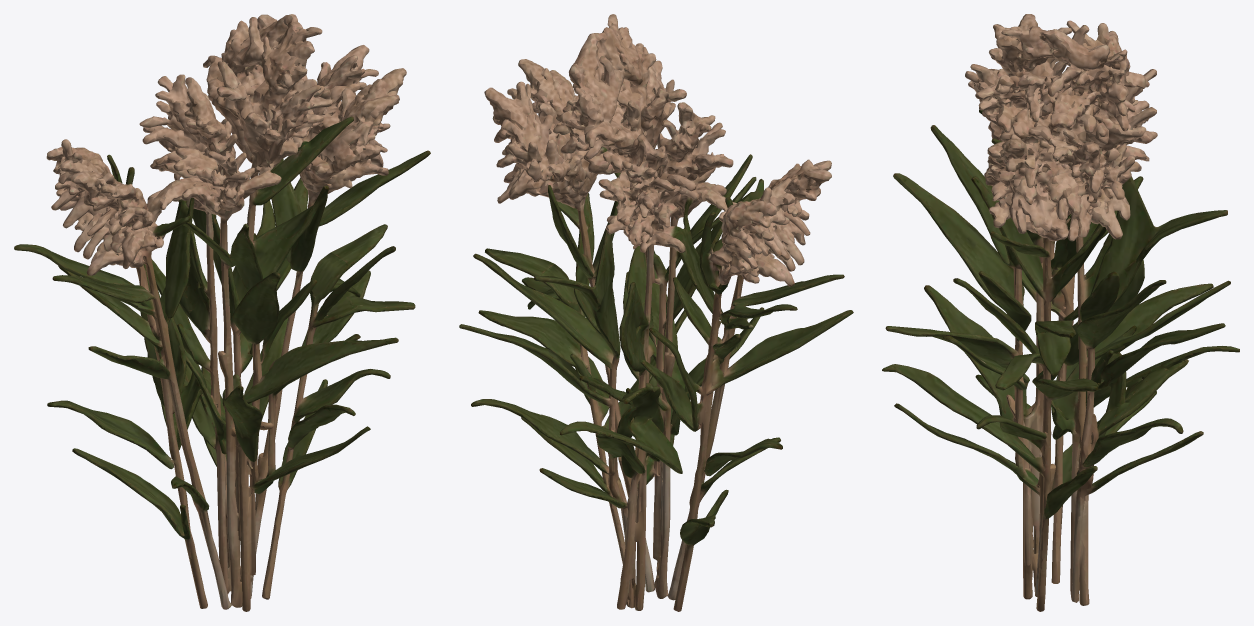
File: common-reed-cluster-v21-lod.glb
The picture shows the model from 3 angles, left to right: view 1: azimuth 30°, elevation 25°; view 2: azimuth 150°, elevation 25°; view 3: azimuth 270°, elevation 25°; orthographic projection. The views are drawn at different scales.
Visible parts, largest first — view 1: world; view 2: world; view 3: world.
Part boxes in pixels (bbox=[...]): world: bbox=[14, 14, 430, 611]; world: bbox=[459, 14, 853, 611]; world: bbox=[882, 14, 1239, 611].
Bounding box in the file's own units: 0.7809 × 1.2 × 0.6487.
1 material, 1 textured.
